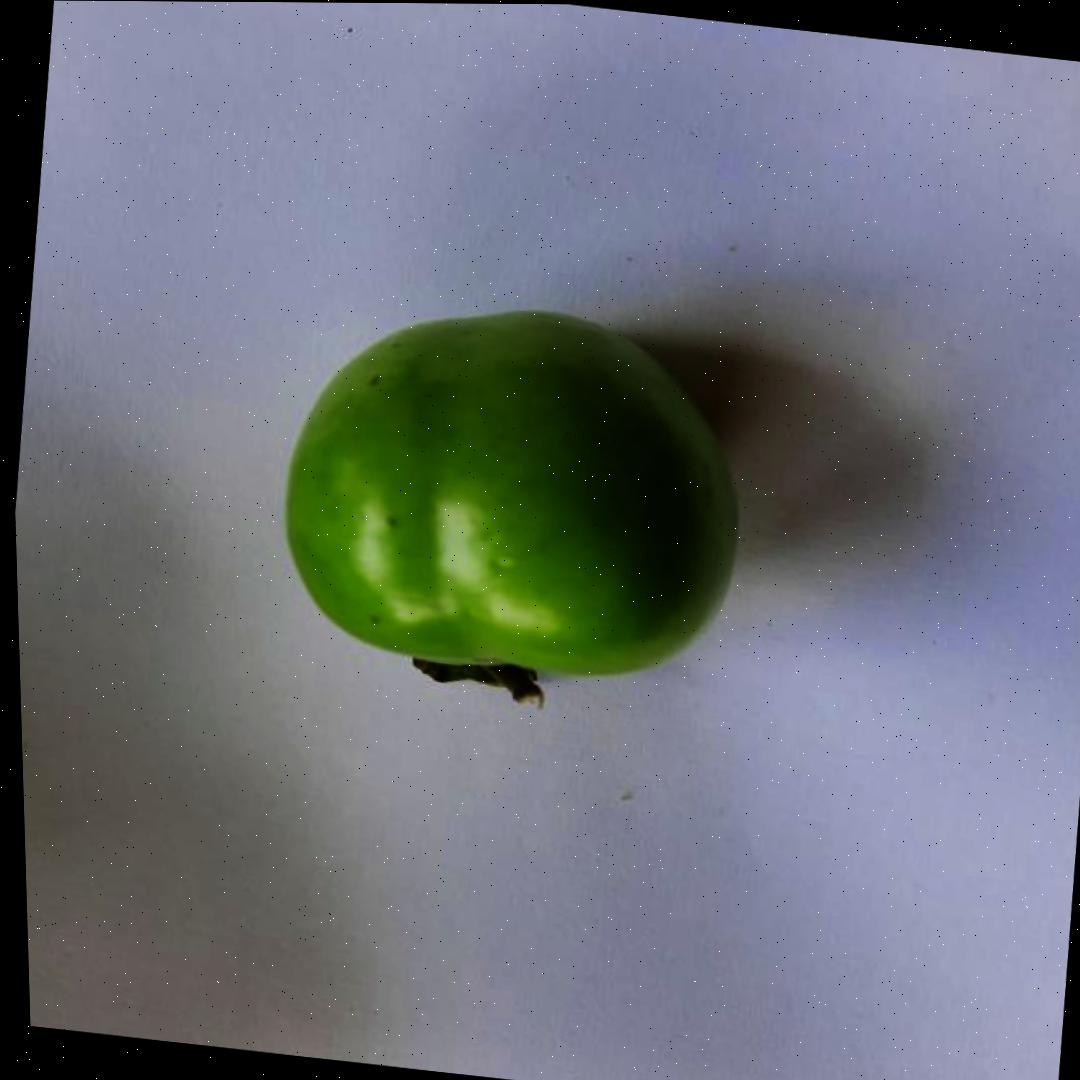mentah: (256, 281, 766, 731)
